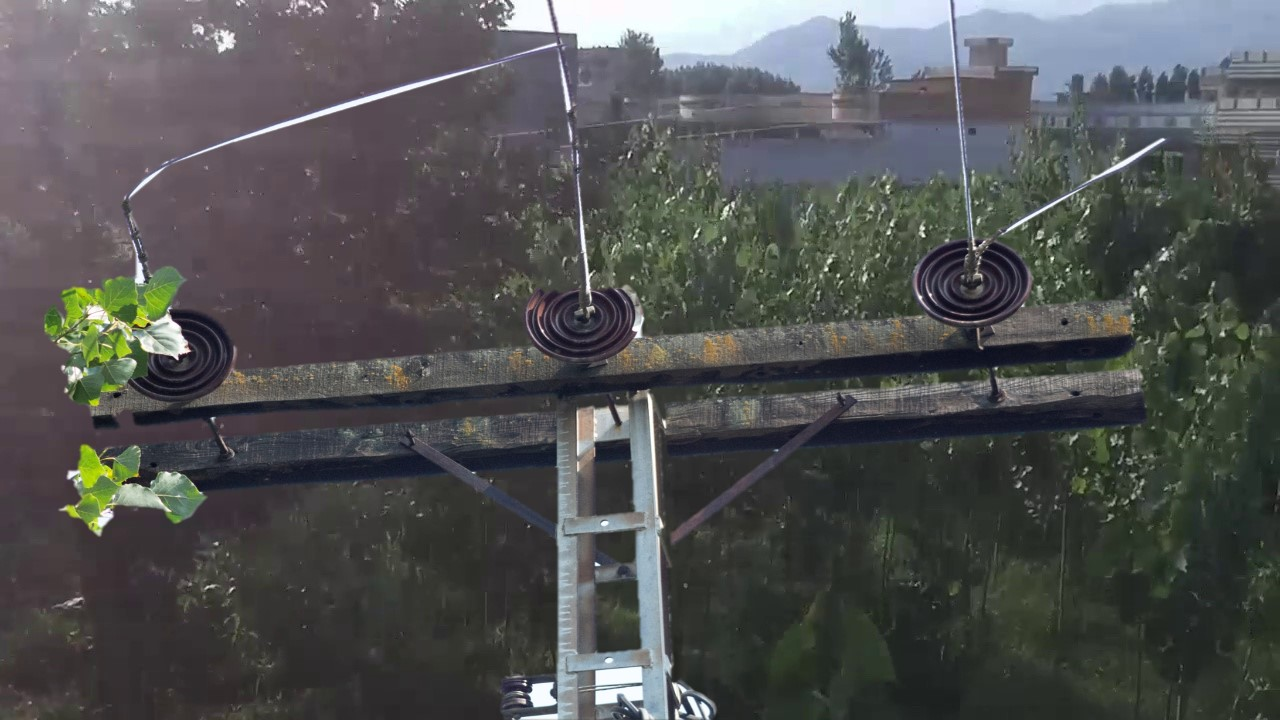defect_disc: (521, 281, 651, 364)
insulator_disc: (909, 235, 1036, 327), (159, 304, 238, 398)
